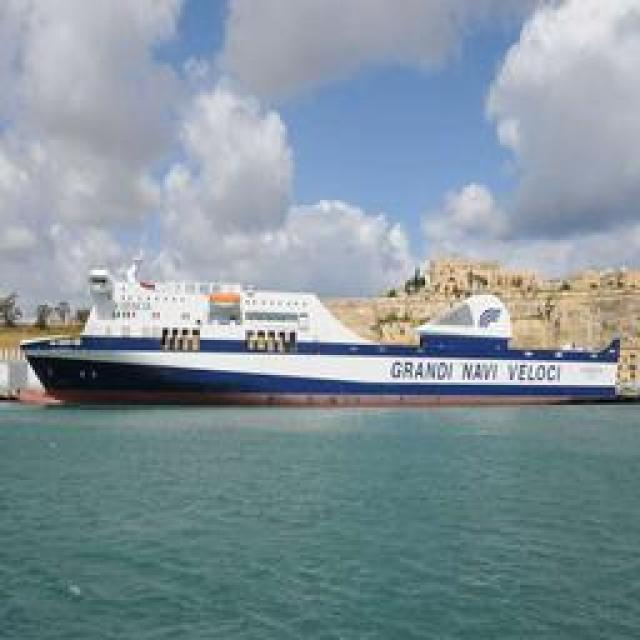ship2: (23, 249, 622, 409)
